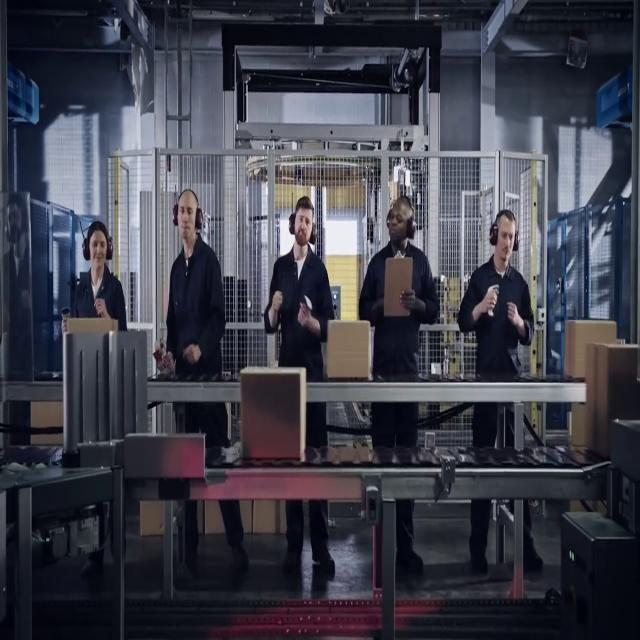earmuff: (80, 228, 92, 260), (105, 231, 115, 259), (488, 220, 498, 246), (171, 202, 180, 228), (408, 217, 418, 240), (194, 206, 203, 230), (289, 209, 297, 234), (384, 206, 392, 228), (514, 231, 522, 253), (312, 222, 319, 245)
